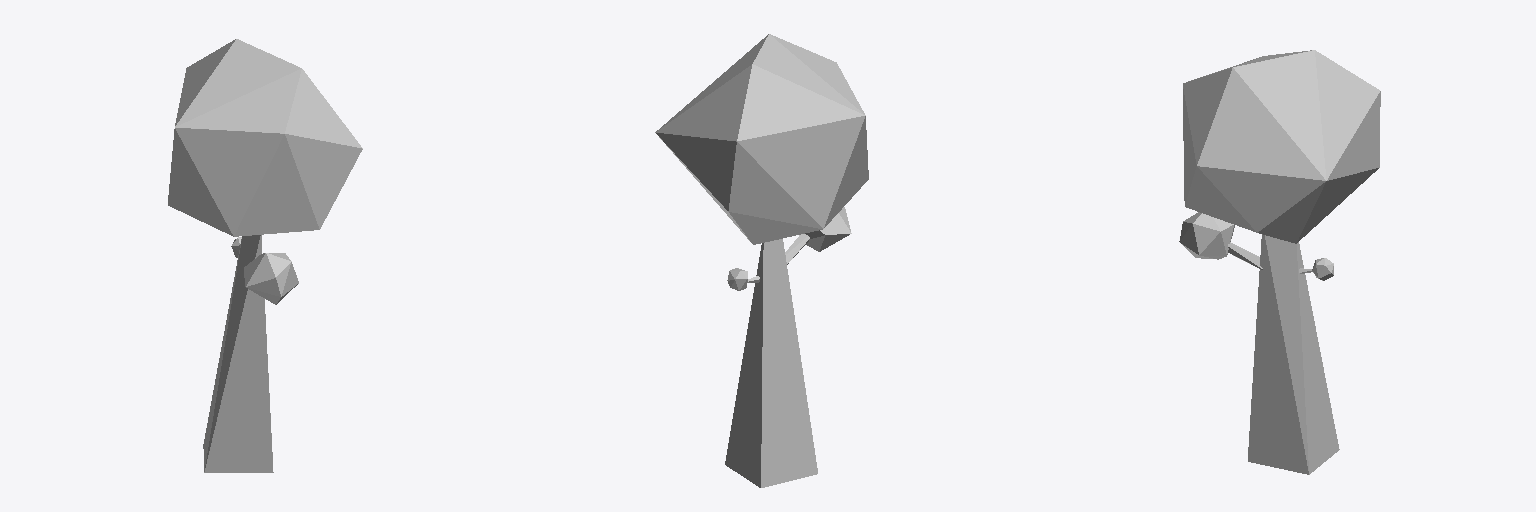
The model's file is tree_0.obj.
3 renders of one model, left to right at view 1: azimuth 30°, elevation 25°; view 2: azimuth 150°, elevation 25°; view 3: azimuth 270°, elevation 25°, orthographic.
Visible parts, largest first — view 1: Sphere, Cylinder, Sphere.001; view 2: Sphere, Cylinder, Sphere.001; view 3: Sphere, Cylinder, Sphere.001.
Boxes of the visible parts, x1,y1,x2,y2 form: Sphere: [168, 39, 362, 236]; Cylinder: [203, 235, 273, 472]; Sphere.001: [244, 253, 298, 304]; Sphere: [655, 34, 868, 244]; Cylinder: [725, 239, 817, 487]; Sphere.001: [805, 207, 851, 251]; Sphere: [1183, 50, 1380, 243]; Cylinder: [1248, 234, 1339, 474]; Sphere.001: [1179, 212, 1234, 259].
Bounding box in the file's own units: 2.03 × 4.44 × 1.98.